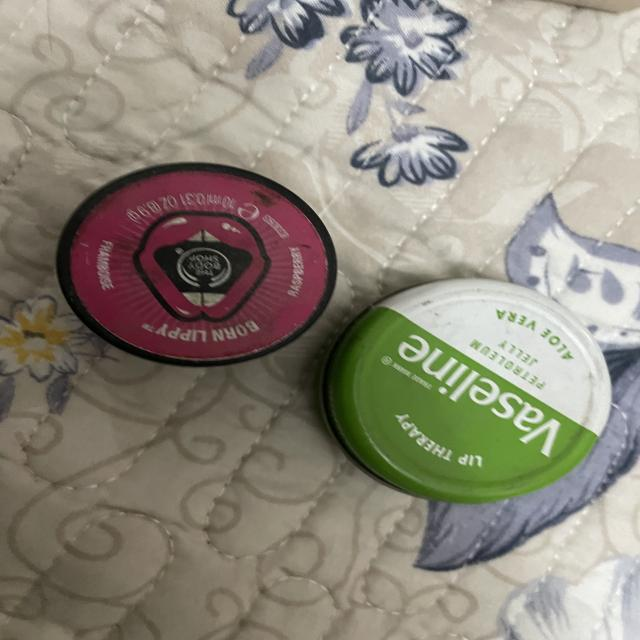lip balm: (307, 272, 627, 508), (51, 147, 344, 376)
